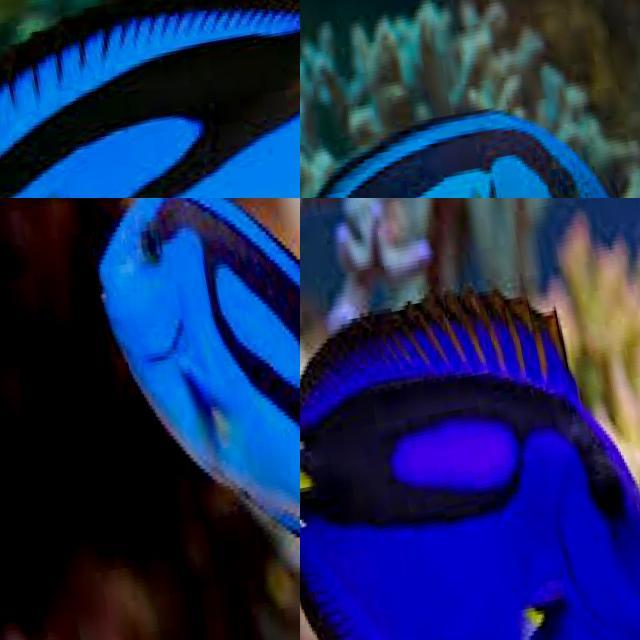BlueTang: (300, 289, 637, 640), (101, 198, 300, 526), (0, 0, 300, 198), (300, 109, 615, 198)
